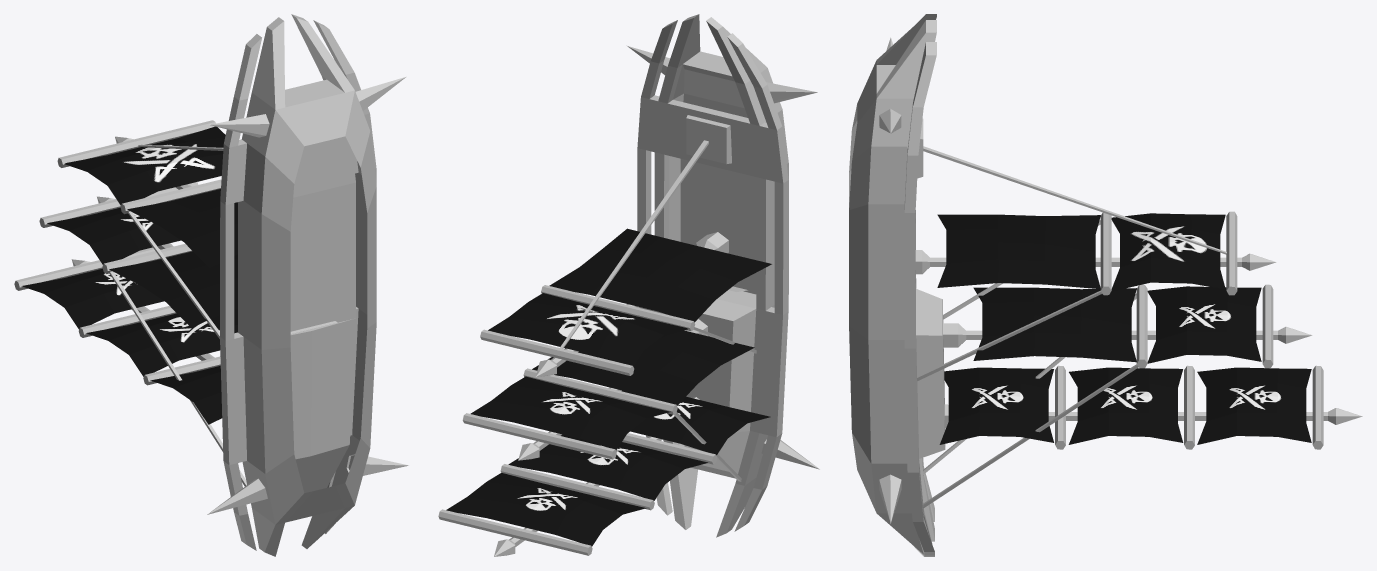
Rendered from skin_2.fbx.
3 views of the same model, side by side, from view 1: azimuth 30°, elevation 25°; view 2: azimuth 150°, elevation 25°; view 3: azimuth 270°, elevation 25° (orthographic). The views are drawn at different scales.
Visible parts, largest first — view 1: Cube.683; view 2: Cube.683; view 3: Cube.683.
Boxes of the visible parts, x1,y1,x2,y2 form: Cube.683: [14, 14, 408, 556]; Cube.683: [438, 14, 819, 556]; Cube.683: [849, 14, 1362, 556].
Size of the model in its own units: 452 by 1132 by 991.
